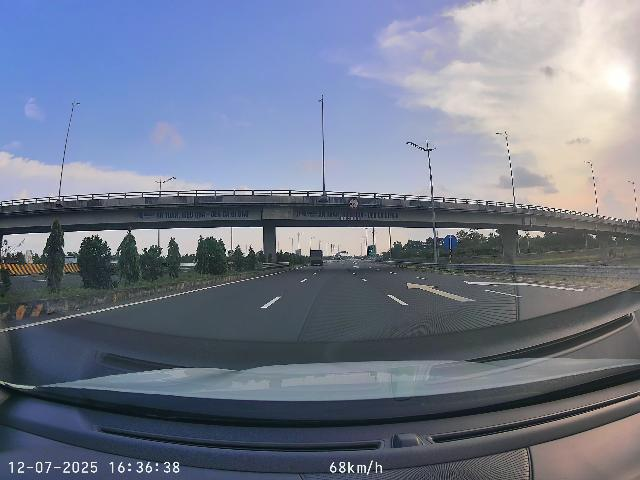301a-cac-xe-chi-duoc-di-thang: (444, 234, 457, 249)
